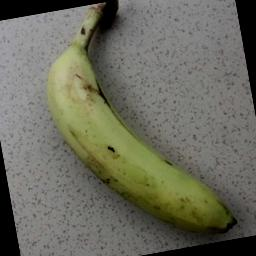Banana Ripe: (25, 7, 251, 256)
